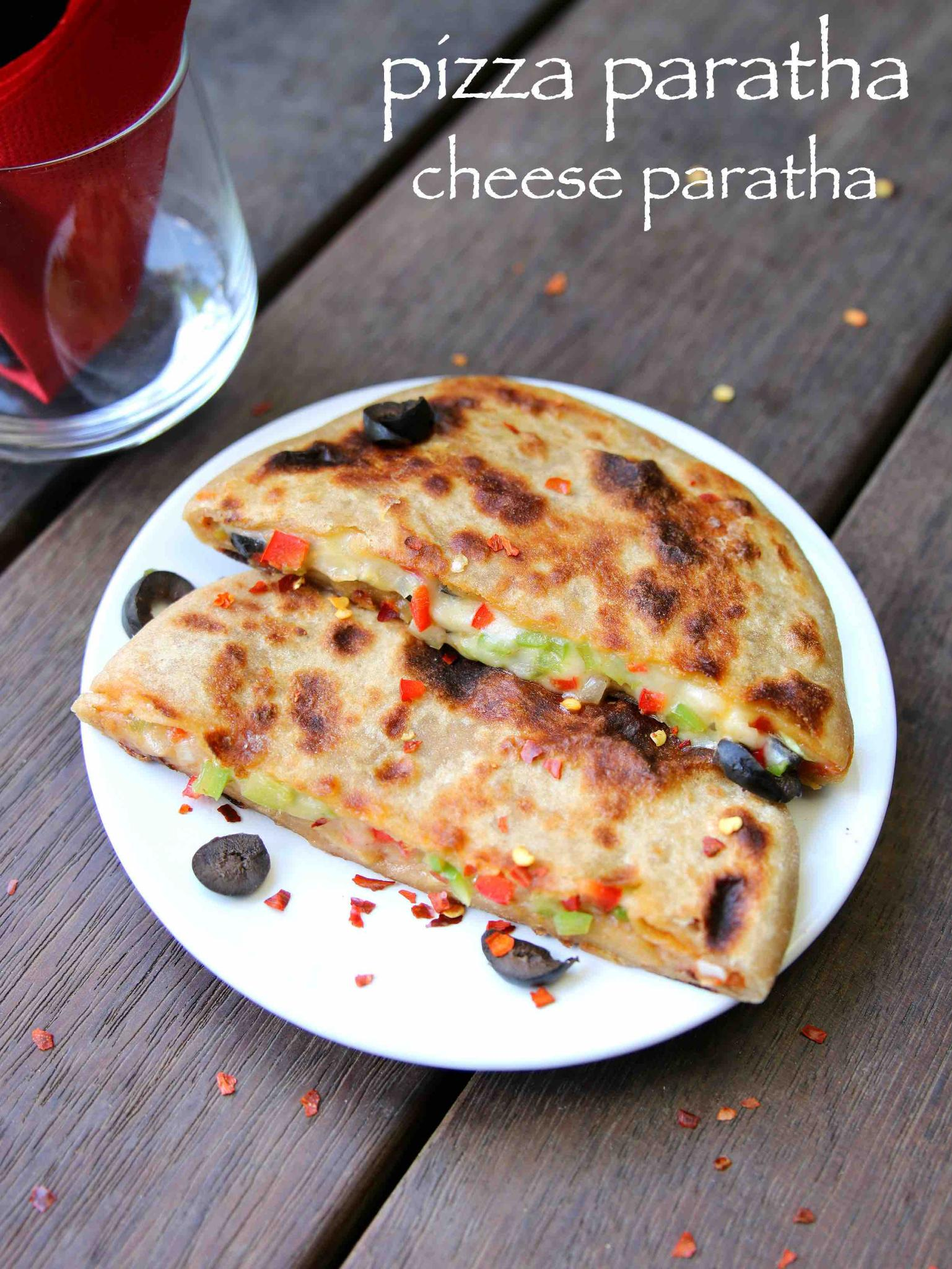paratha: (133, 406, 821, 975)
